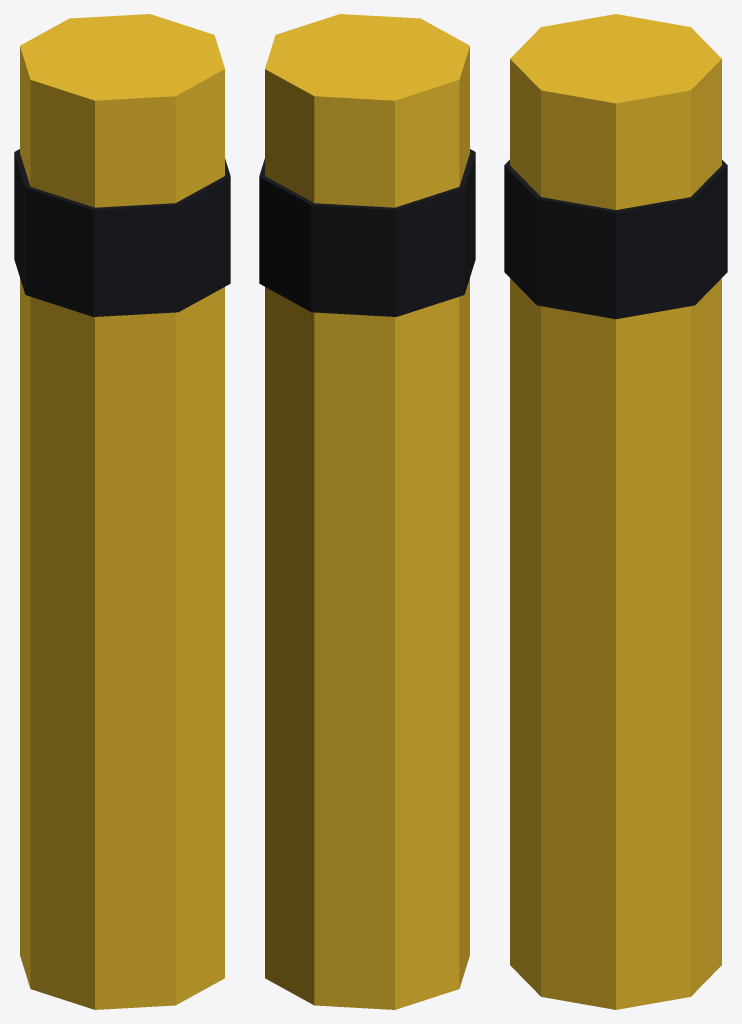
Rendered from prop_bollard.glb.
The picture shows the model from 3 angles, left to right: view 1: azimuth 30°, elevation 25°; view 2: azimuth 150°, elevation 25°; view 3: azimuth 270°, elevation 25°; orthographic projection.
Visible parts, largest first — view 1: prop_bollard__mesh; view 2: prop_bollard__mesh; view 3: prop_bollard__mesh.
Part boxes in pixels (x1=…): prop_bollard__mesh: x1=14, y1=14, x2=230, y2=1009; prop_bollard__mesh: x1=259, y1=14, x2=475, y2=1009; prop_bollard__mesh: x1=504, y1=14, x2=727, y2=1009.
Size of the model in its own units: 0.19 by 0.85 by 0.19.
